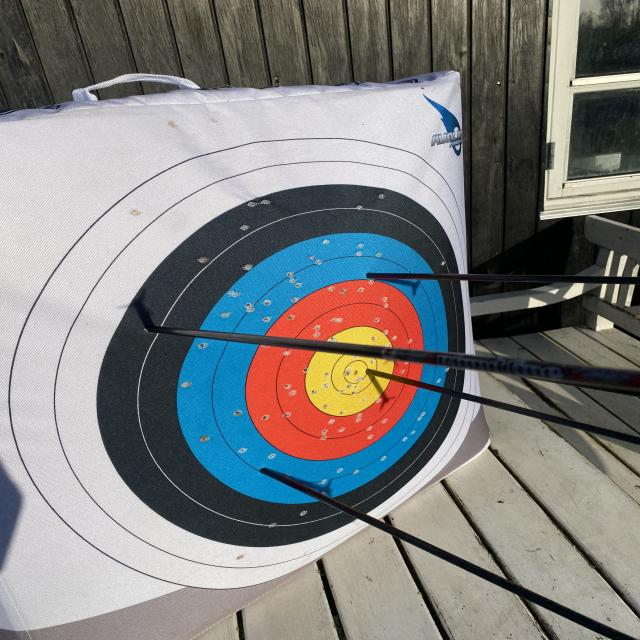Arrow_Black: (145, 313, 172, 343)
Arrow_Blue: (360, 263, 392, 289), (256, 462, 288, 483)
Arrow_Yellow: (363, 362, 382, 383)
